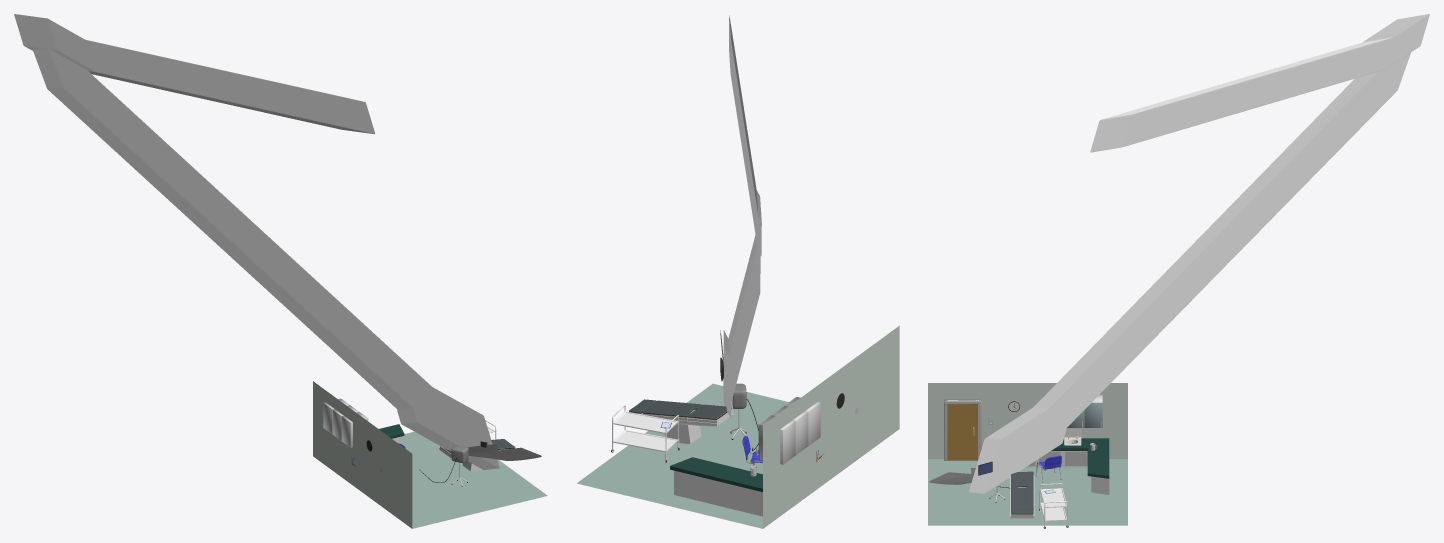
Rendered from IP1 Surgery Room (1).fbx.
3 views of the same model, side by side, from view 1: azimuth 30°, elevation 25°; view 2: azimuth 150°, elevation 25°; view 3: azimuth 270°, elevation 25° (orthographic). The views are drawn at different scales.
Parts seen in each view (by area): view 1: Cube.003, Plane, Cube.004, Cylinder.018; view 2: Plane, Cupboards, Cube.003, Cube.004, Cube.007, Cube.022, Cube.006, Cube.019, Cube.013, Cube.021, Cube.020, Cube.012; view 3: Cube.003, Plane, Cube.004, Cupboards, Door, Door.001.
Boxes of the visible parts, x1,y1,x2,y2 form: Cube.003: (32,47,499,469); Plane: (313,381,547,528); Cube.004: (14,14,375,134); Cylinder.018: (467,444,541,460); Plane: (577,326,899,528); Cupboards: (670,457,762,516); Cube.003: (723,235,760,418); Cube.004: (729,15,761,256); Cube.007: (613,430,678,452); Cube.022: (758,415,795,464); Cube.006: (613,411,678,433); Cube.019: (666,412,733,443); Cube.013: (642,400,701,417); Cube.021: (771,406,808,454); Cube.020: (784,397,820,445); Cube.012: (687,404,731,419); Cube.003: (969,52,1410,493); Plane: (928,383,1127,525); Cube.004: (1090,14,1429,152); Cupboards: (1026,438,1109,494); Door: (947,404,977,460); Door.001: (944,399,981,460).
Size of the model in its own units: 1550 by 1883 by 2279.
